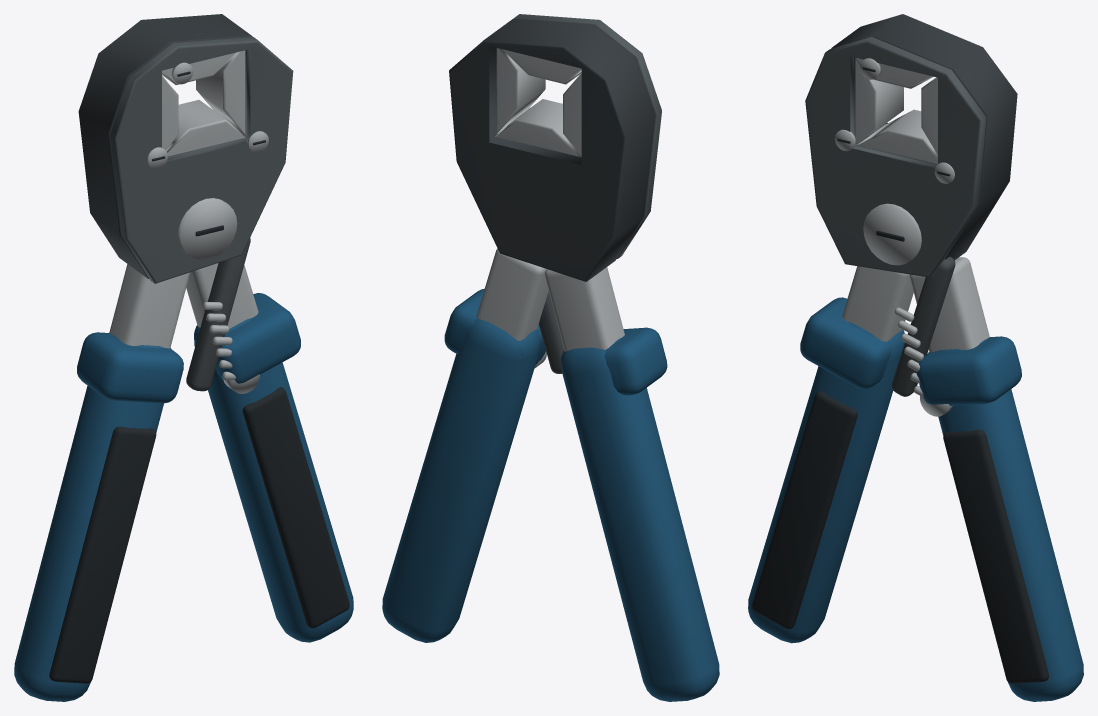
File: crimper_default.glb
The picture shows the model from 3 angles, left to right: view 1: azimuth 30°, elevation 25°; view 2: azimuth 150°, elevation 25°; view 3: azimuth 330°, elevation 25°; orthographic projection.
Visible parts, largest first — view 1: node-17, node-6, node-7, node-13, node-12, node-16, node-15 · Original material, node-8, node-5, node-14, node-35 · Original material, node-38 (+1 smaller); view 2: node-16, node-6, node-12, node-15 · Original material, node-5, node-11, node-8, node-17, node-14, node-38; view 3: node-17, node-12, node-13, node-6, node-7, node-16, node-15 · Original material, node-14, node-8, node-35 · Original material, node-5, node-11 (+1 smaller).
Part boxes in pixels (left/top/right/bottom): node-17: left=110, top=37, right=293, bottom=283; node-6: left=14, top=335, right=171, bottom=701; node-7: left=49, top=426, right=156, bottom=683; node-13: left=242, top=387, right=349, bottom=628; node-12: left=194, top=318, right=353, bottom=642; node-16: left=78, top=14, right=252, bottom=278; node-15 · Original material: left=147, top=50, right=268, bottom=168; node-8: left=77, top=332, right=183, bottom=403; node-5: left=109, top=264, right=189, bottom=348; node-14: left=194, top=293, right=300, bottom=383; node-35 · Original material: left=178, top=198, right=259, bottom=393; node-38: left=186, top=238, right=250, bottom=391; node-16: left=449, top=18, right=655, bottom=281; node-6: left=561, top=338, right=719, bottom=701; node-12: left=382, top=318, right=540, bottom=642; node-15 · Original material: left=495, top=48, right=581, bottom=157; node-5: left=545, top=267, right=624, bottom=351; node-11: left=476, top=248, right=548, bottom=340; node-8: left=561, top=327, right=667, bottom=395; node-17: left=514, top=14, right=661, bottom=258; node-14: left=444, top=288, right=545, bottom=364; node-38: left=538, top=291, right=564, bottom=373; node-17: left=805, top=37, right=986, bottom=277; node-12: left=928, top=339, right=1083, bottom=701; node-13: left=943, top=429, right=1048, bottom=683; node-6: left=748, top=322, right=904, bottom=643; node-7: left=752, top=390, right=857, bottom=629; node-16: left=831, top=14, right=1017, bottom=260; node-15 · Original material: left=834, top=57, right=954, bottom=183; node-14: left=916, top=336, right=1021, bottom=405; node-8: left=800, top=297, right=904, bottom=389; node-35 · Original material: left=863, top=203, right=952, bottom=416; node-5: left=842, top=266, right=913, bottom=341; node-11: left=910, top=257, right=989, bottom=352.
Bounding box in the file's own units: 0.6071 × 1.14 × 0.1375.
